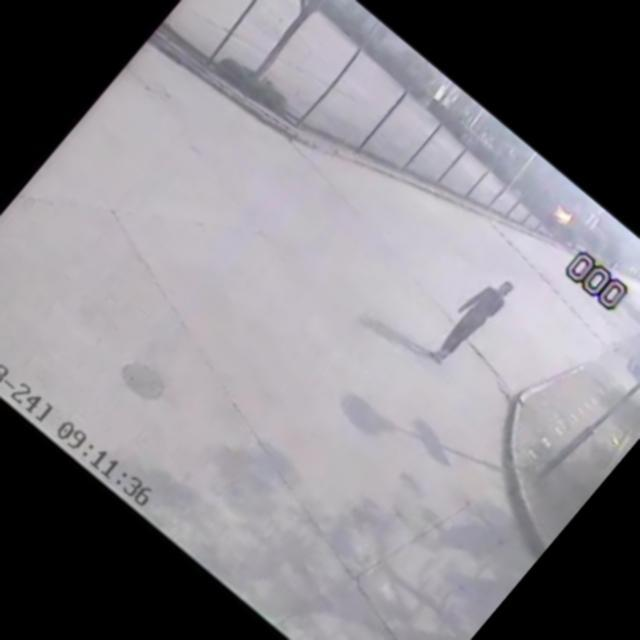person: (414, 254, 534, 383)
